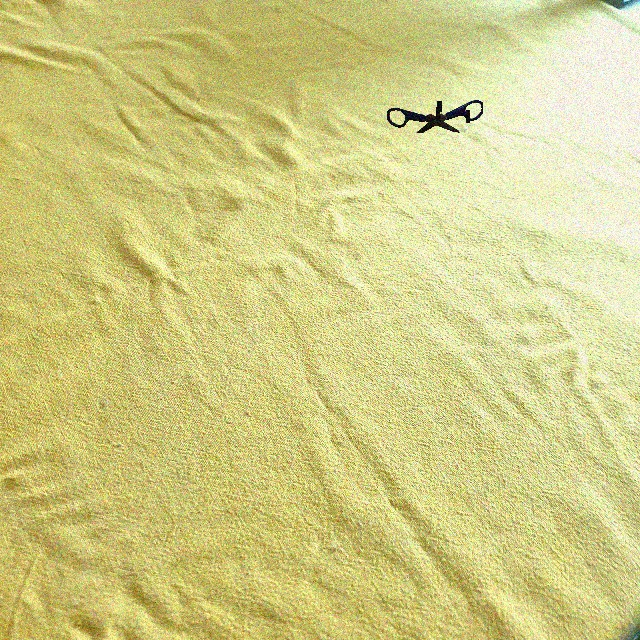scissors: (387, 100, 483, 133)
